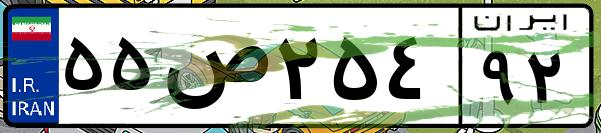2: (270, 28, 330, 110), (525, 38, 570, 115)
4: (385, 28, 445, 110)
5: (330, 28, 385, 110), (57, 26, 110, 100), (110, 28, 158, 98)
9: (475, 38, 525, 113)
ص: (158, 20, 270, 120)
